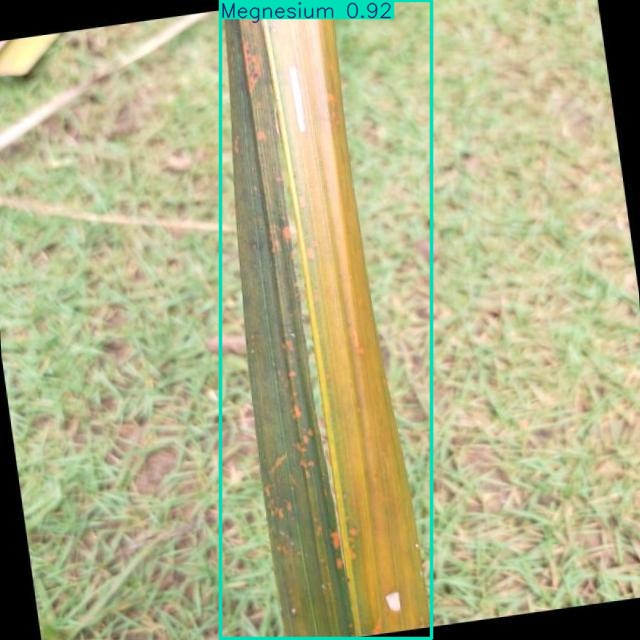Megnesium: (221, 1, 431, 639)
